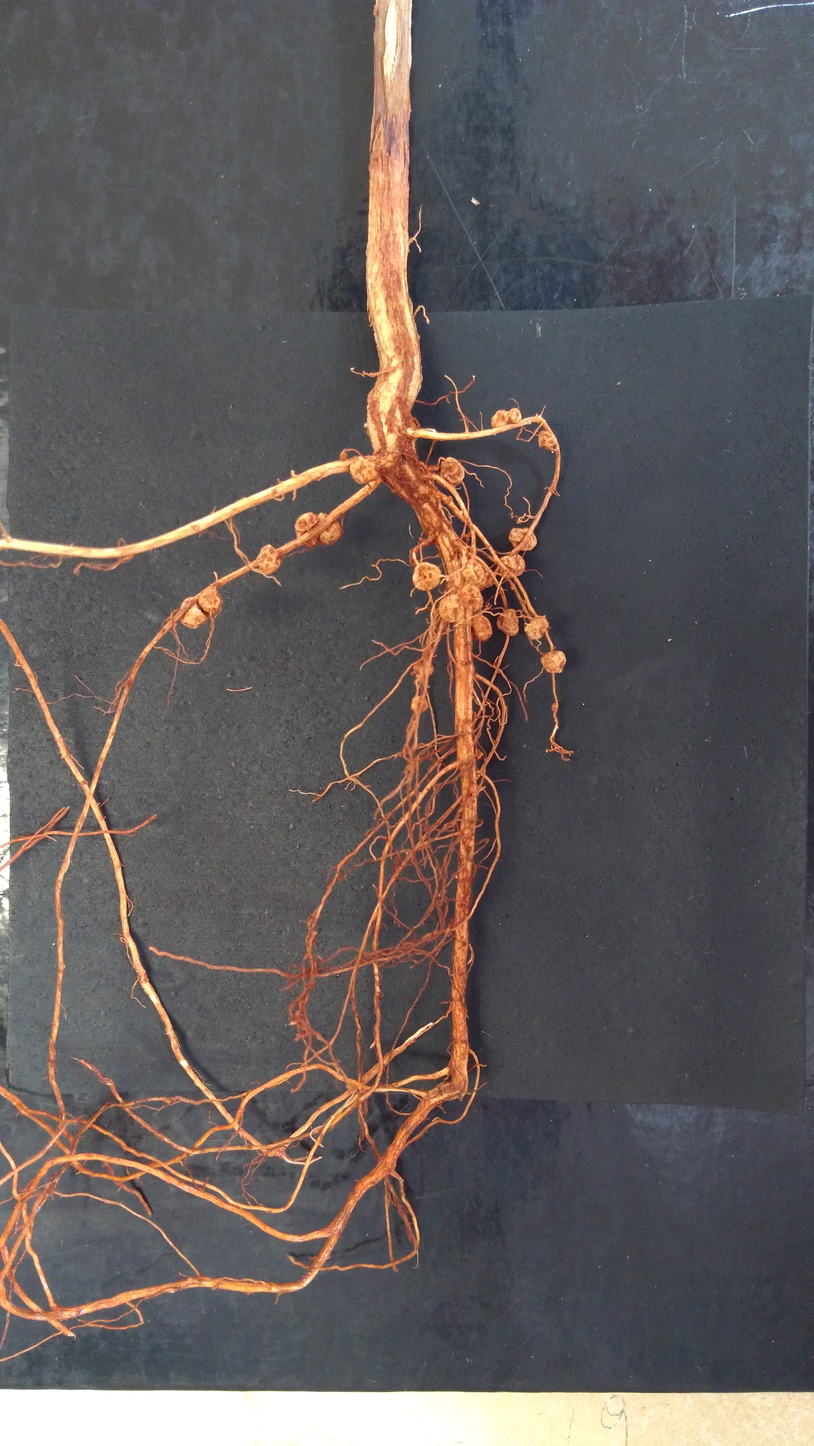nodule: (180, 597, 209, 629), (350, 455, 380, 484), (412, 562, 441, 591), (295, 512, 318, 548), (256, 544, 282, 575), (317, 513, 342, 545), (440, 457, 465, 486), (439, 595, 464, 622), (508, 528, 537, 551), (461, 584, 483, 612), (499, 554, 525, 577), (199, 589, 222, 615), (524, 616, 548, 640), (540, 651, 566, 673), (497, 609, 518, 636), (462, 559, 484, 584), (473, 615, 492, 641), (538, 430, 558, 450), (478, 568, 493, 591), (490, 410, 509, 428), (413, 662, 434, 675), (411, 696, 428, 712), (421, 644, 433, 661), (509, 408, 521, 423), (475, 748, 483, 760), (475, 765, 481, 780), (444, 496, 453, 505), (551, 703, 557, 711)
